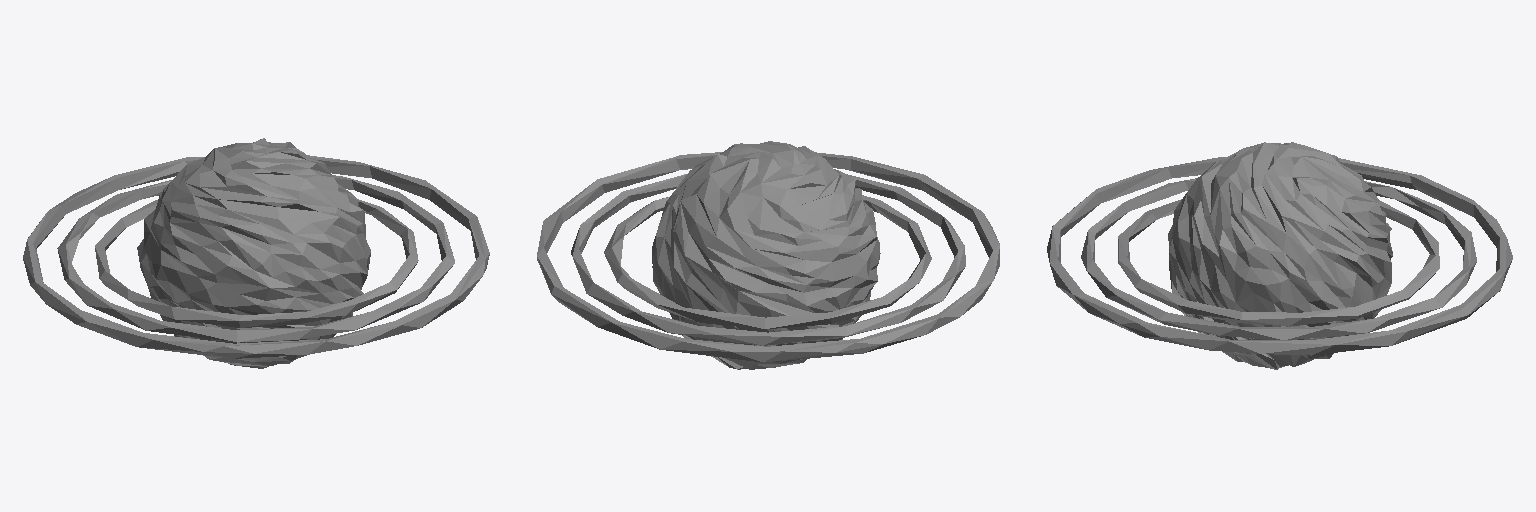
Rendered from saturn_scaled.obj.
3 views of the same model, side by side, from view 1: azimuth 30°, elevation 25°; view 2: azimuth 150°, elevation 25°; view 3: azimuth 270°, elevation 25° (orthographic).
Parts seen in each view (by area): view 1: Saturn_Saturn.002; view 2: Saturn_Saturn.002; view 3: Saturn_Saturn.002.
Boxes of the visible parts, box(x1,y1,x2,y2) form: Saturn_Saturn.002: box(23, 138, 489, 368); Saturn_Saturn.002: box(537, 141, 999, 369); Saturn_Saturn.002: box(1047, 142, 1512, 369).
Size of the model in its own units: 20.23 by 10.09 by 20.32.